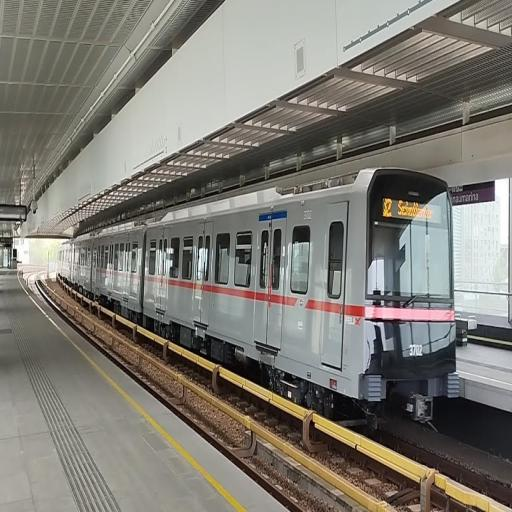X-Wagen: (58, 165, 461, 418)
